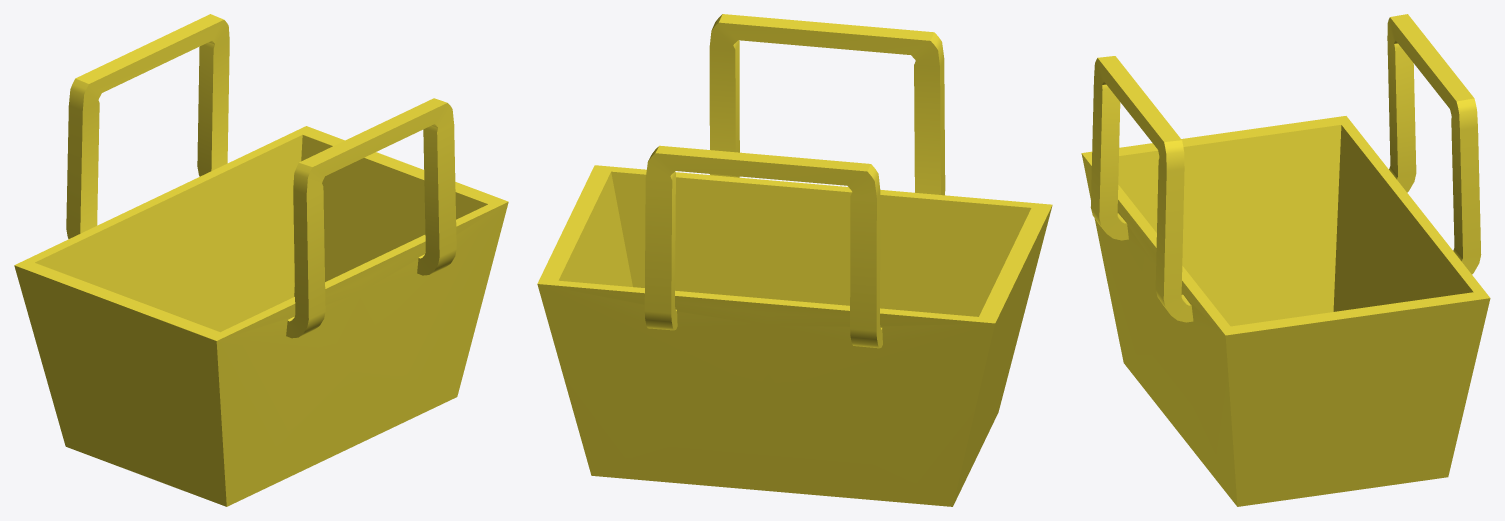
The model's file is keranjang.fbx.
The picture shows the model from 3 angles, left to right: view 1: azimuth 30°, elevation 25°; view 2: azimuth 150°, elevation 25°; view 3: azimuth 270°, elevation 25°; orthographic projection. The views are drawn at different scales.
Visible parts, largest first — view 1: Cube.031; view 2: Cube.031; view 3: Cube.031.
Part boxes in pixels (x1,y1,x2,y2): Cube.031: [14, 14, 508, 506]; Cube.031: [537, 14, 1052, 506]; Cube.031: [1081, 14, 1490, 506].
Bounding box in the file's own units: 25.93 × 18.82 × 20.39.
